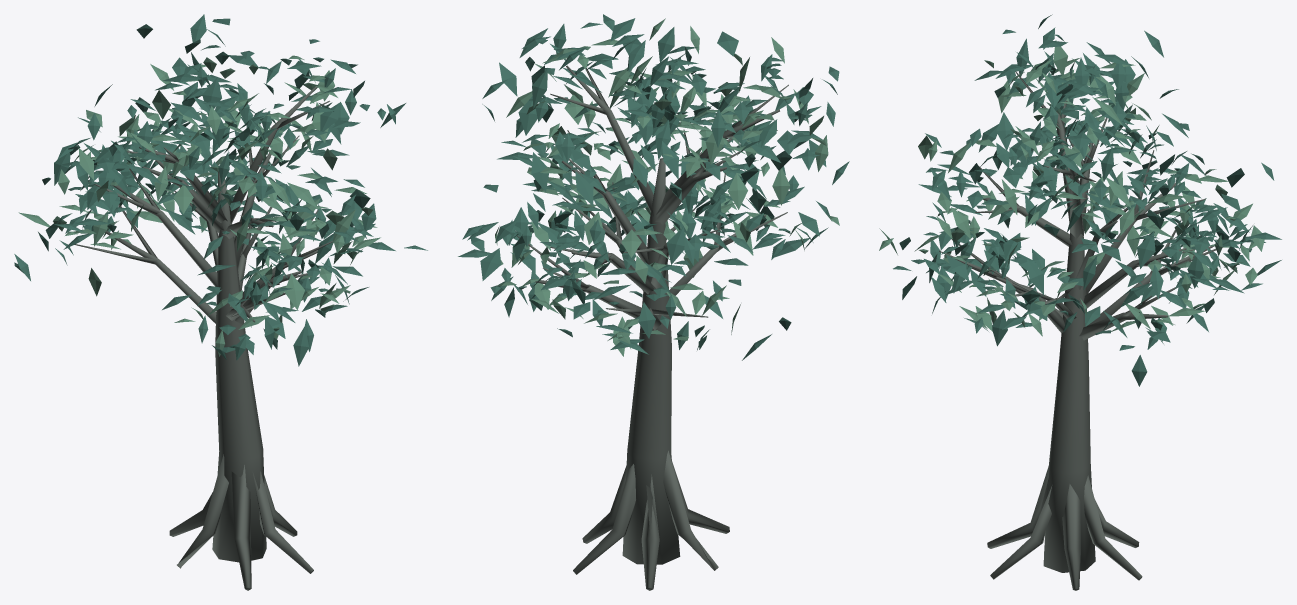
File: kapok_lod.glb
3 views of the same model, side by side, from view 1: azimuth 30°, elevation 25°; view 2: azimuth 150°, elevation 25°; view 3: azimuth 270°, elevation 25° (orthographic). The views are drawn at different scales.
Parts seen in each view (by area): view 1: Moonwater kapok leaves, Moonwater kapok branches; view 2: Moonwater kapok leaves, Moonwater kapok branches; view 3: Moonwater kapok leaves, Moonwater kapok branches.
Boxes of the visible parts, x1,y1,x2,y2 form: Moonwater kapok leaves: (14, 14, 427, 366); Moonwater kapok branches: (74, 86, 332, 590); Moonwater kapok leaves: (458, 14, 849, 360); Moonwater kapok branches: (517, 65, 788, 590); Moonwater kapok leaves: (879, 14, 1281, 386); Moonwater kapok branches: (939, 71, 1216, 590).
Bounding box in the file's own units: 6.23 × 8.93 × 6.42.
